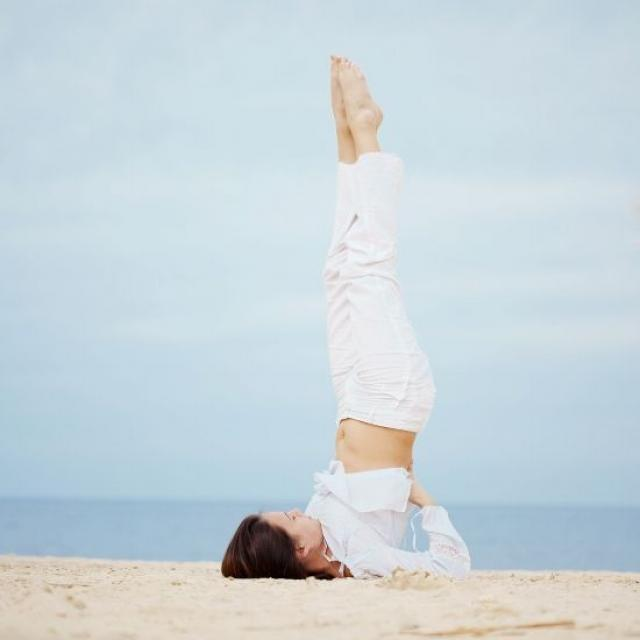yoga-pose shoulderstand: (236, 43, 479, 574)
